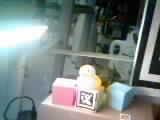duck: (75, 60, 101, 91)
